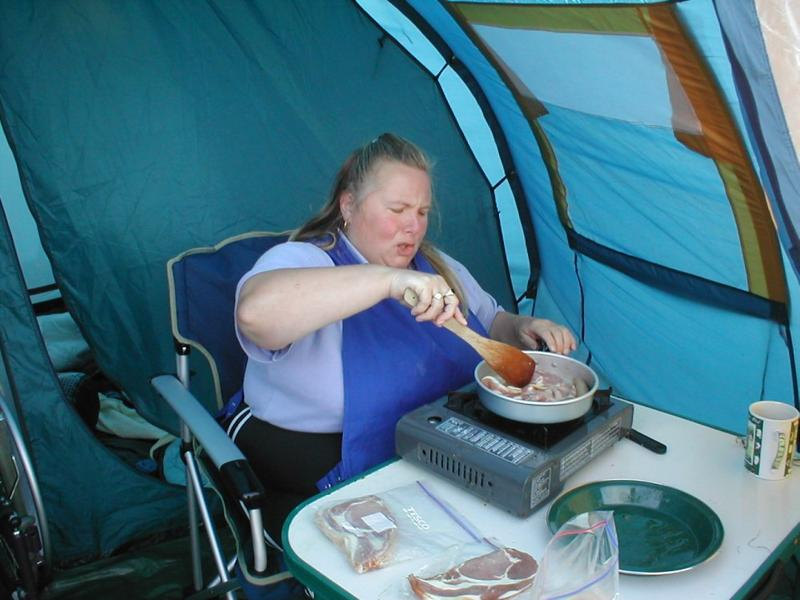person: (223, 138, 580, 571)
